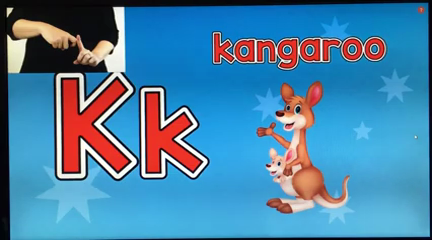K: (43, 20, 97, 68)
